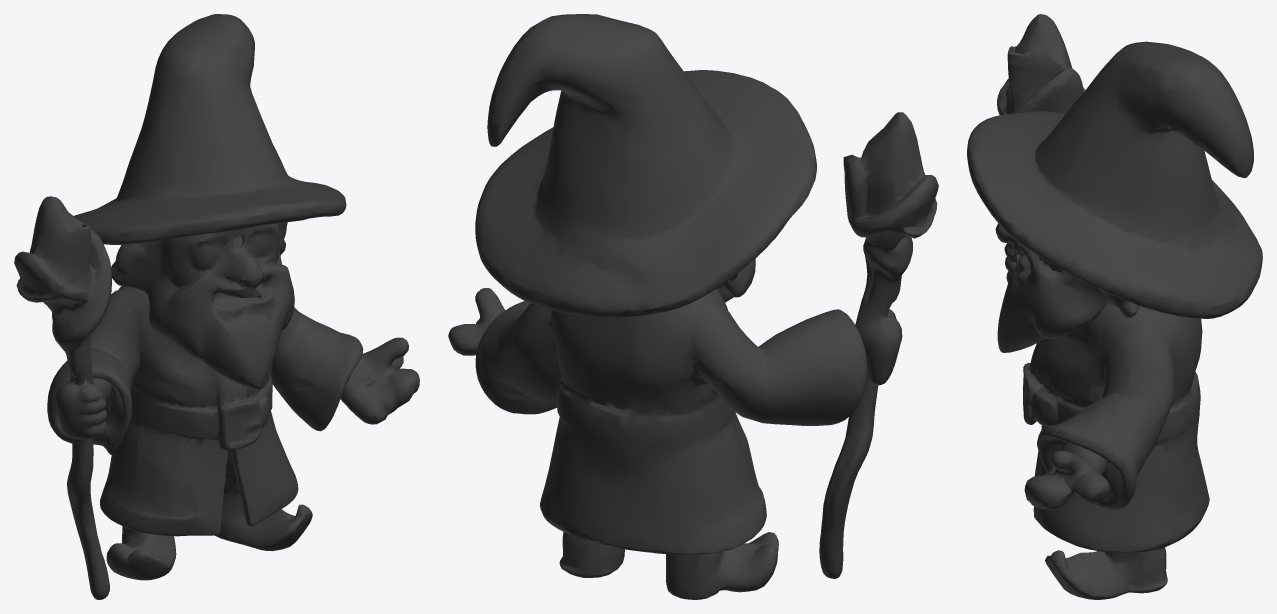
Rendered from rayo.glb.
3 renders of one model, left to right at view 1: azimuth 30°, elevation 25°; view 2: azimuth 150°, elevation 25°; view 3: azimuth 270°, elevation 25°, orthographic. The views are drawn at different scales.
Parts seen in each view (by area): view 1: geometry_0; view 2: geometry_0; view 3: geometry_0.
Part boxes in pixels (box(x1,y1,x2,y2)): geometry_0: box(14, 14, 419, 599); geometry_0: box(448, 14, 938, 599); geometry_0: box(967, 14, 1262, 599).
Size of the model in its own units: 0.8378 by 0.9835 by 0.4988.
Materials: 1 (1 with a texture image).
